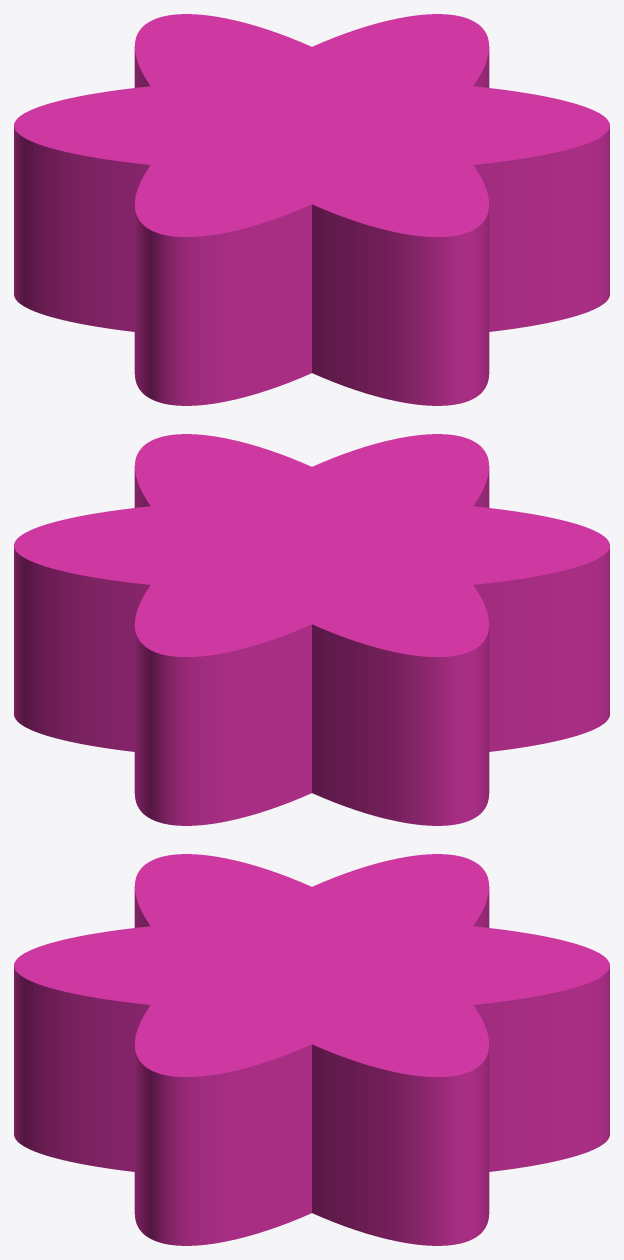
File: fleur_rose.dae
3 views of the same model, one above another, from view 1: azimuth 30°, elevation 25°; view 2: azimuth 150°, elevation 25°; view 3: azimuth 270°, elevation 25° (orthographic).
Visible parts, largest first — view 1: Fleur Rose; view 2: Fleur Rose; view 3: Fleur Rose.
Boxes of the visible parts, left/top/right/bottom form: Fleur Rose: left=14, top=14, right=609, bottom=405; Fleur Rose: left=14, top=434, right=609, bottom=825; Fleur Rose: left=14, top=854, right=609, bottom=1245.
Size of the model in its own units: 0.0425 by 0.048 by 0.015.
